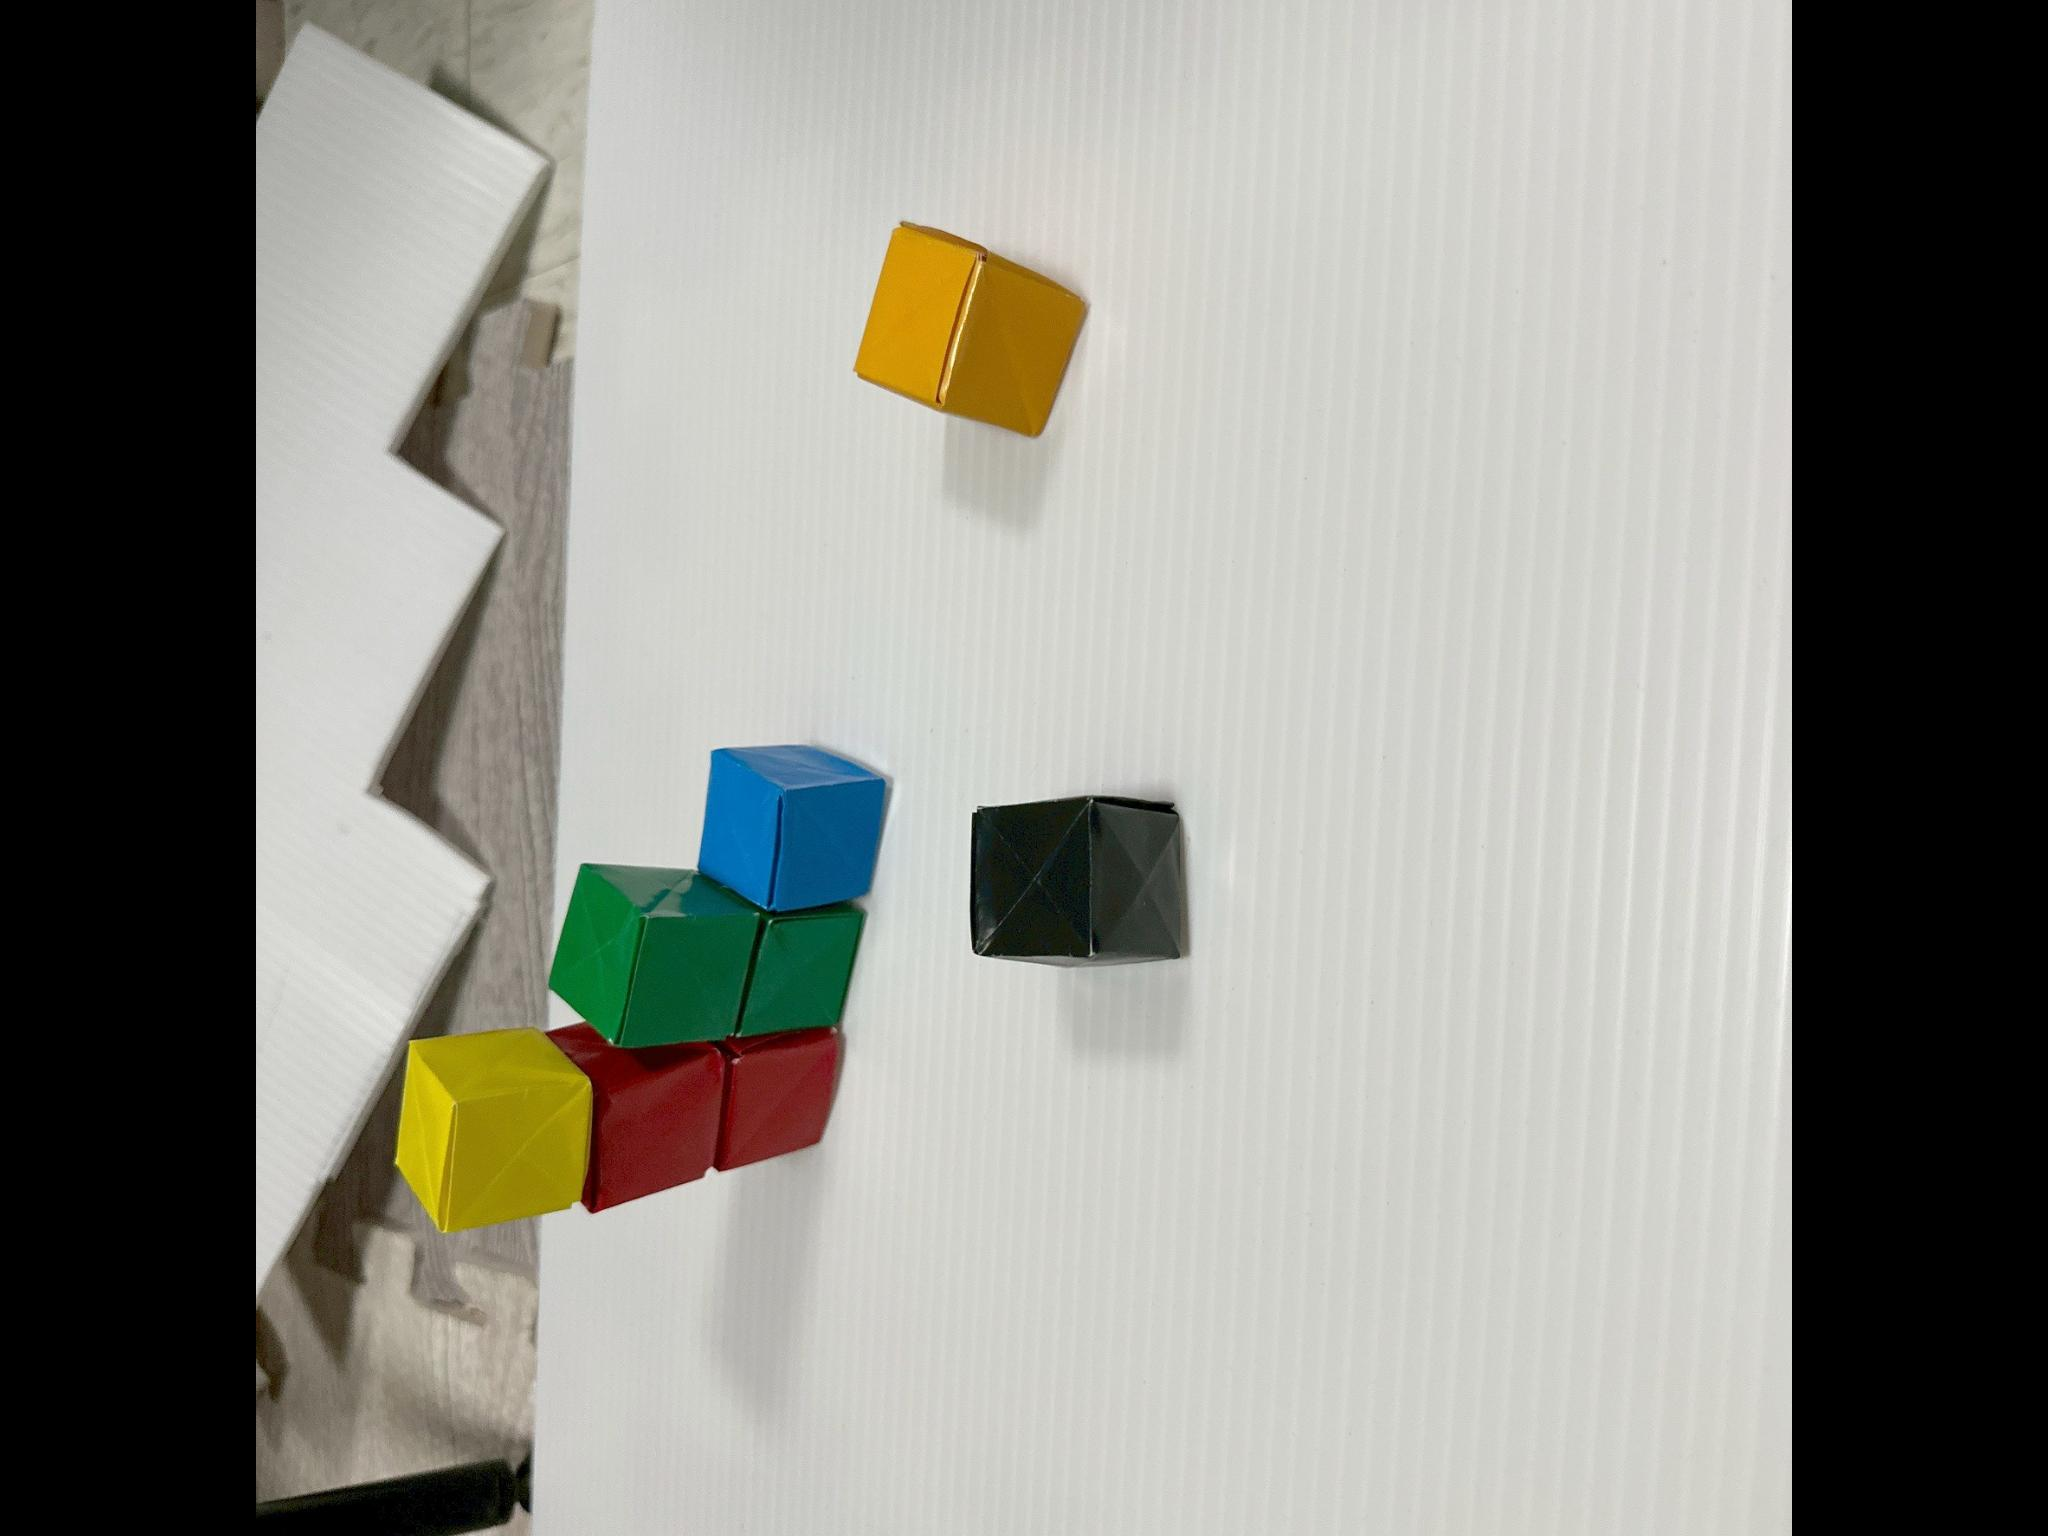base: (856, 221, 1085, 434), (397, 1028, 592, 1231), (552, 865, 760, 1044), (972, 795, 1187, 965), (548, 1023, 729, 1212), (698, 745, 885, 910), (714, 1026, 840, 1168), (735, 904, 864, 1034)
